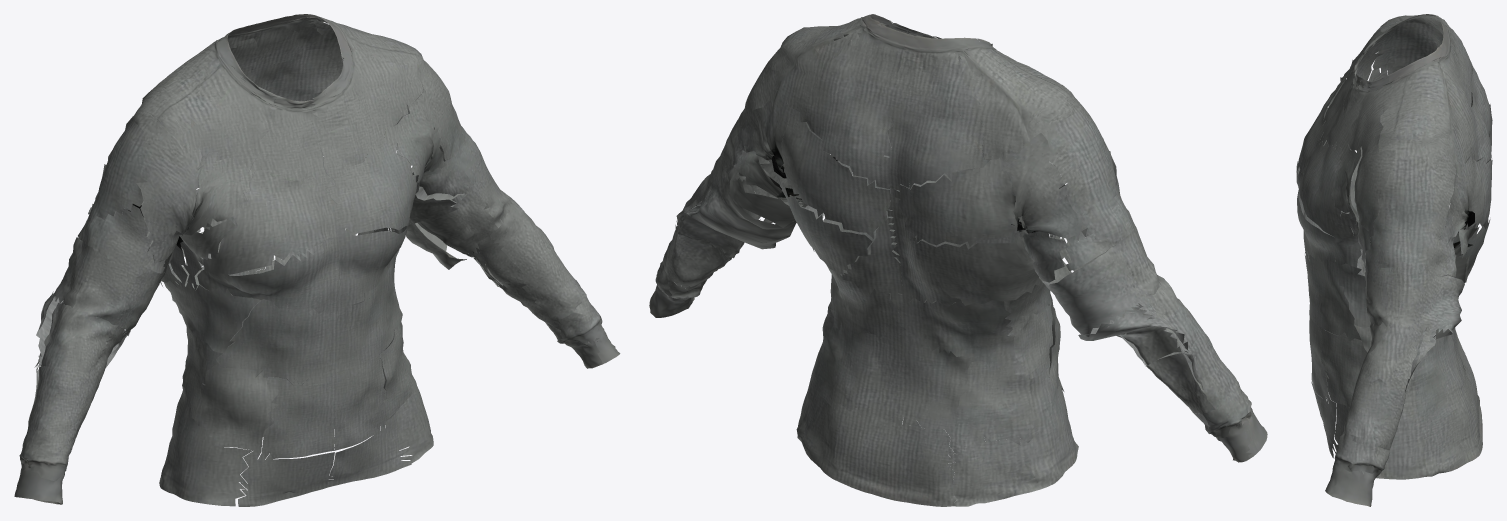
File: dante.mobile.glb
3 renders of one model, left to right at view 1: azimuth 30°, elevation 25°; view 2: azimuth 150°, elevation 25°; view 3: azimuth 270°, elevation 25°, orthographic. The views are drawn at different scales.
Parts seen in each view (by area): view 1: geometry_0; view 2: geometry_0; view 3: geometry_0.
Boxes of the visible parts, left/top/right/bottom form: geometry_0: left=14, top=14, right=620, bottom=506; geometry_0: left=649, top=14, right=1267, bottom=506; geometry_0: left=1296, top=14, right=1492, bottom=506.
Bounding box in the file's own units: 0.9648 × 0.68 × 0.3014.
1 material, 1 textured.
